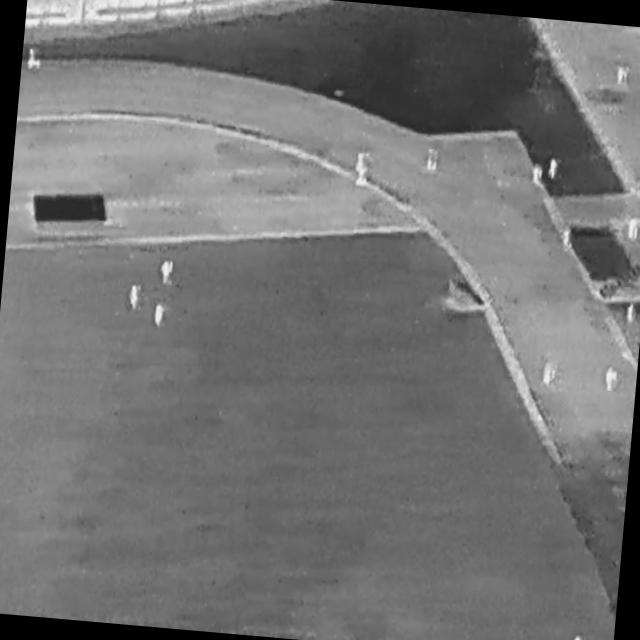person: (354, 152, 371, 187), (605, 368, 618, 395), (27, 50, 43, 71), (130, 284, 142, 310), (161, 261, 174, 284), (427, 149, 440, 172), (628, 217, 639, 244), (543, 361, 554, 387), (154, 306, 166, 329), (548, 156, 558, 181), (562, 227, 572, 250), (532, 164, 541, 185), (627, 305, 635, 326), (616, 66, 624, 84), (568, 636, 583, 640)
